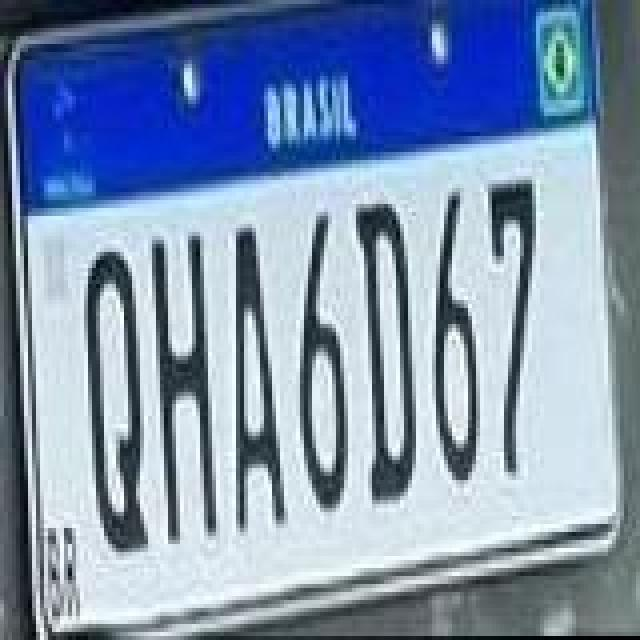6: (296, 208, 352, 516), (430, 188, 482, 496)
7: (486, 176, 538, 484)
A: (232, 218, 288, 538)
D: (352, 204, 416, 512)
H: (150, 226, 218, 538)
Q: (78, 244, 146, 556)
